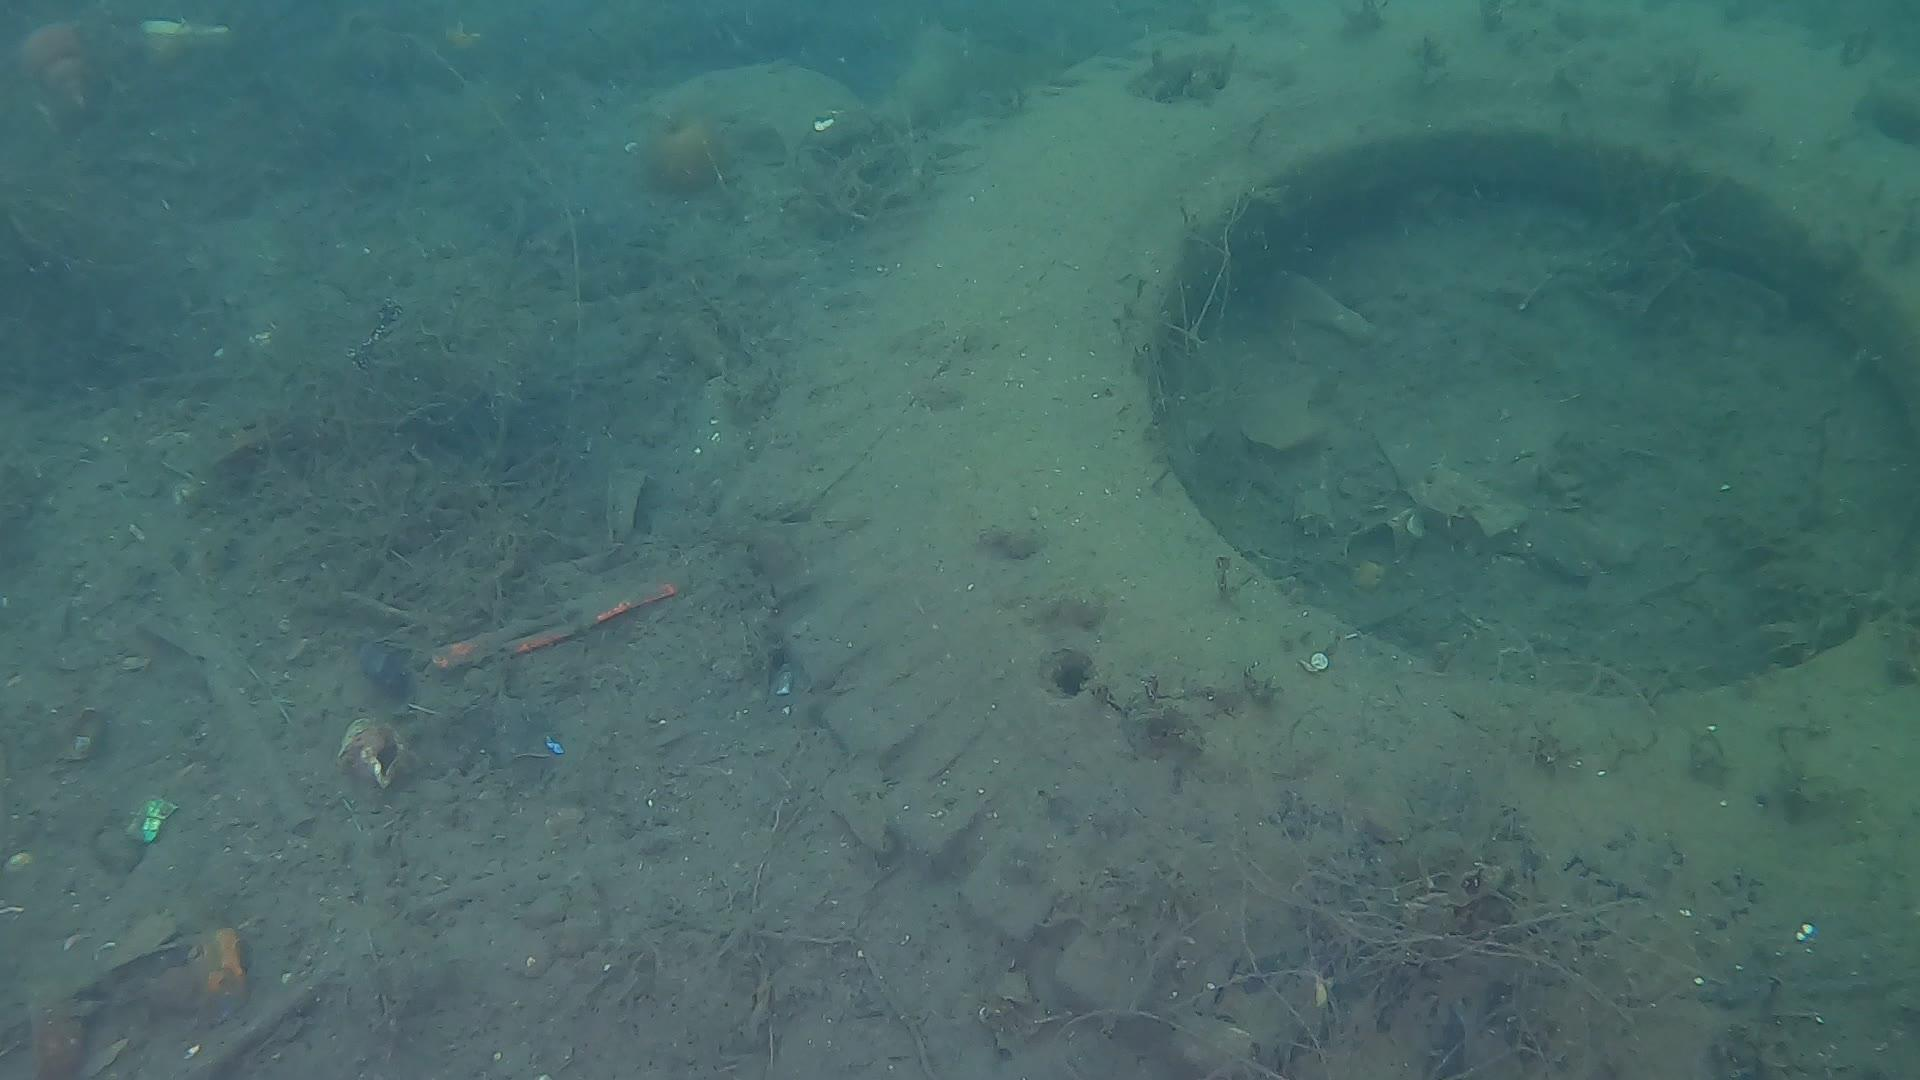tire: (760, 8, 1920, 1080)
